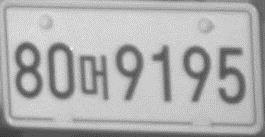0: (48, 42, 75, 99)
1: (151, 43, 172, 104)
5: (218, 47, 247, 103)
8: (15, 42, 42, 99)
9: (115, 43, 144, 102), (182, 45, 212, 102)
머: (79, 55, 109, 101)
